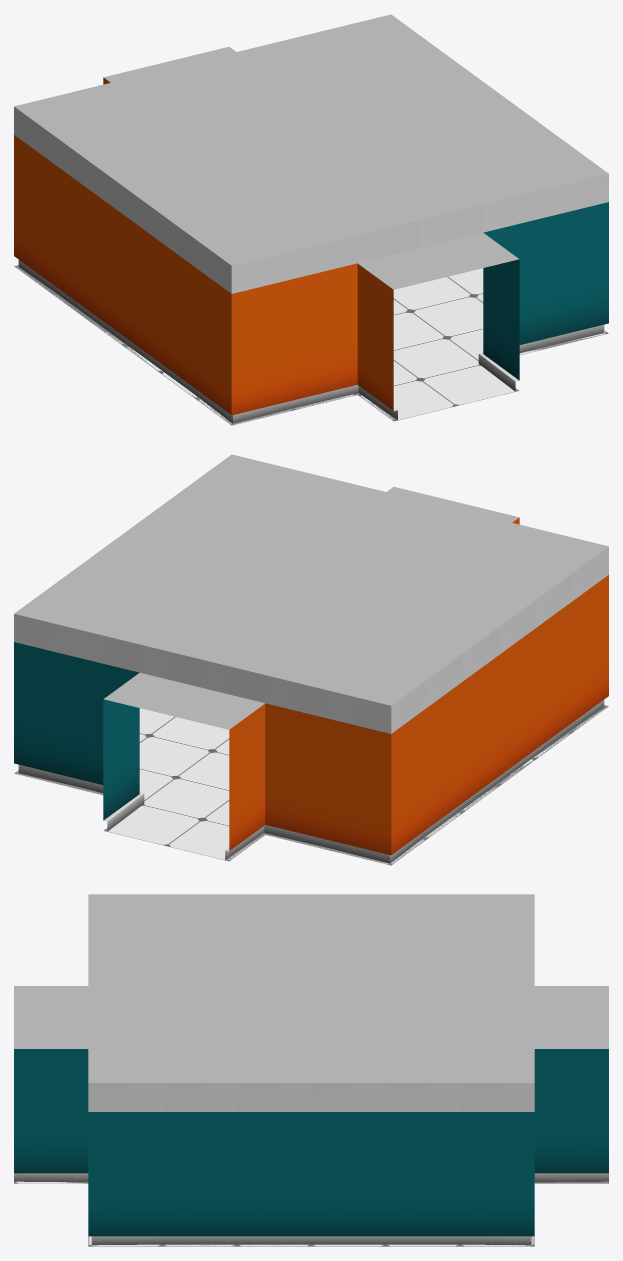
File: SalaGrandeHUBEngTec.fbx
3 renders of one model, top to bottom at view 1: azimuth 30°, elevation 25°; view 2: azimuth 150°, elevation 25°; view 3: azimuth 270°, elevation 25°, orthographic. The views are drawn at different scales.
Parts seen in each view (by area): view 1: SalaGrandeHUBEngTec; view 2: SalaGrandeHUBEngTec; view 3: SalaGrandeHUBEngTec.
Boxes of the visible parts, bbox=[...] form: SalaGrandeHUBEngTec: bbox=[14, 14, 608, 425]; SalaGrandeHUBEngTec: bbox=[14, 454, 608, 865]; SalaGrandeHUBEngTec: bbox=[14, 894, 608, 1246].
Bounding box in the file's own units: 600 × 243 × 800.
1 material, 1 textured.
